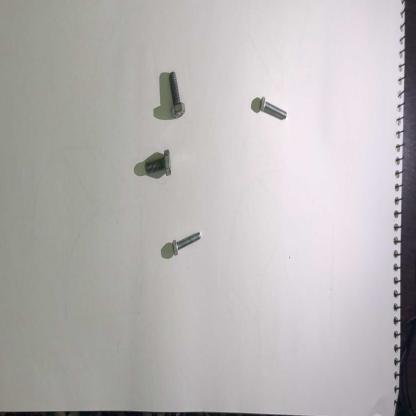Bolts: (257, 91, 291, 131), (165, 228, 203, 262), (143, 146, 174, 184), (166, 69, 188, 121)
